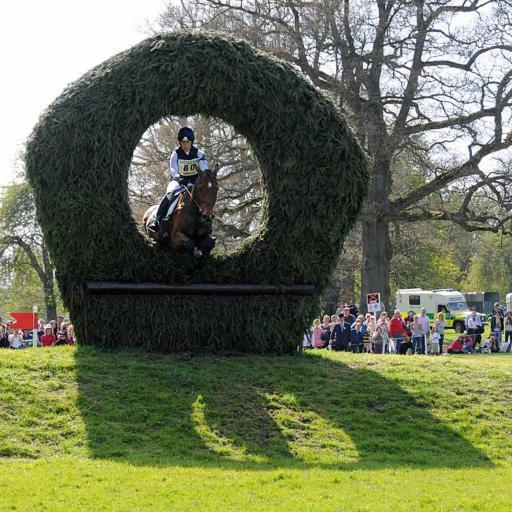horse: (142, 166, 221, 258)
